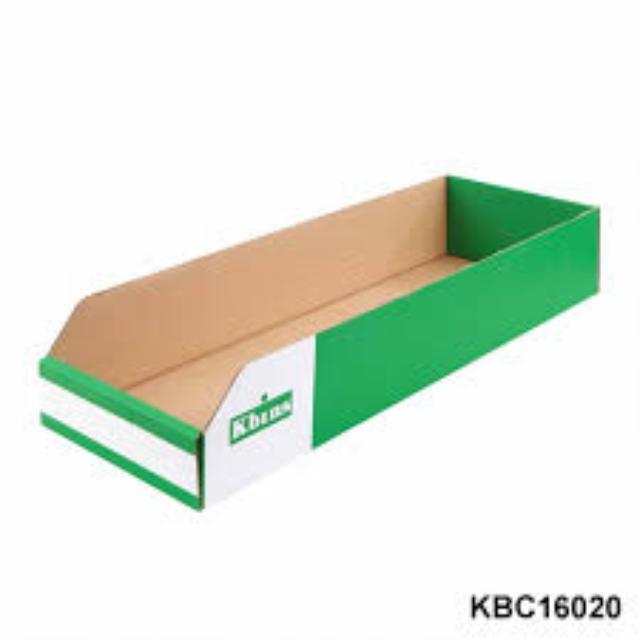cardboard paper: (37, 174, 594, 503)
